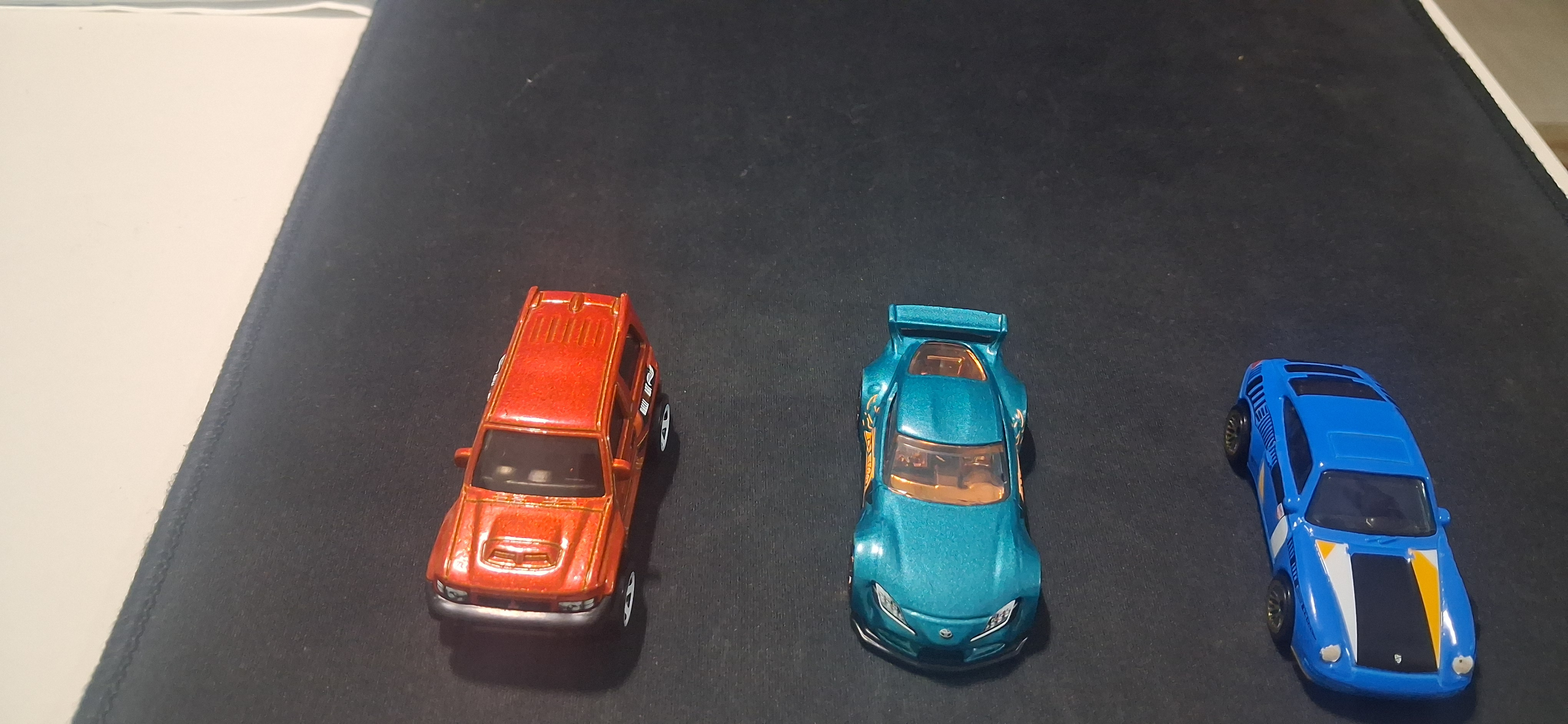Mitsubishi_Pajero_Evolution: (410, 248, 716, 686)
Porsche_Carrera: (1185, 318, 1498, 713)
Toyota_GR_Supra: (797, 281, 1089, 696)
